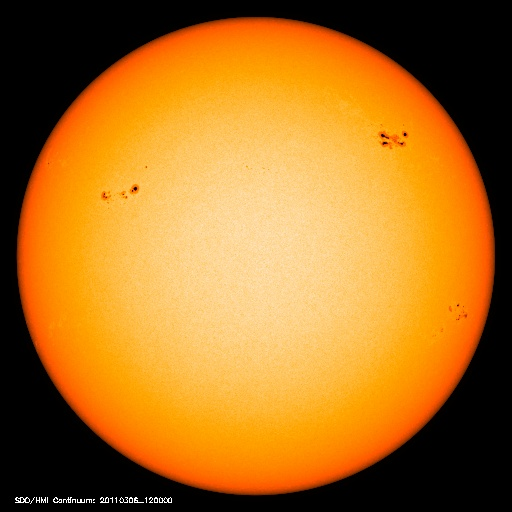sunspot: (97, 160, 152, 208), (430, 297, 473, 341), (368, 119, 415, 155)
